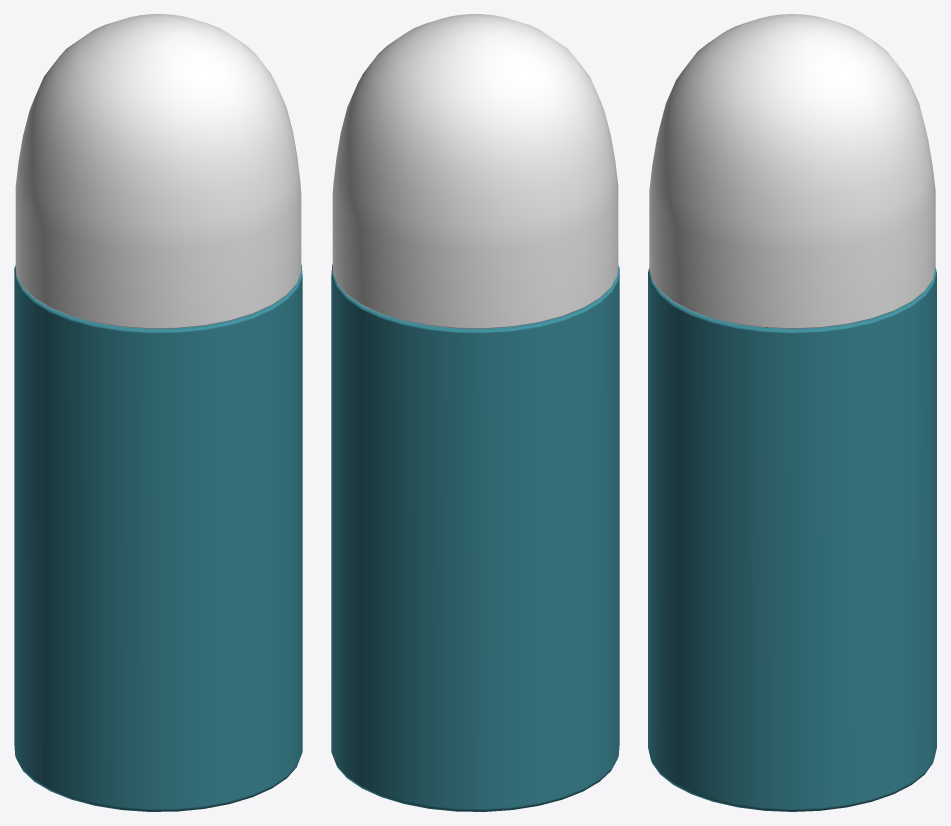
The model's file is blueBottol.glb.
The picture shows the model from 3 angles, left to right: view 1: azimuth 30°, elevation 25°; view 2: azimuth 150°, elevation 25°; view 3: azimuth 270°, elevation 25°; orthographic projection.
Visible parts, largest first — view 1: Deodorant bottle, lid; view 2: Deodorant bottle, lid; view 3: Deodorant bottle, lid.
Part boxes in pixels (<box>): Deodorant bottle: <box>14,264,302,811</box>; lid: <box>15,14,301,328</box>; Deodorant bottle: <box>331,264,619,811</box>; lid: <box>332,14,618,328</box>; Deodorant bottle: <box>648,268,936,811</box>; lid: <box>649,14,935,328</box>.
Size of the model in its own units: 0.0504 by 0.1398 by 0.0504.
